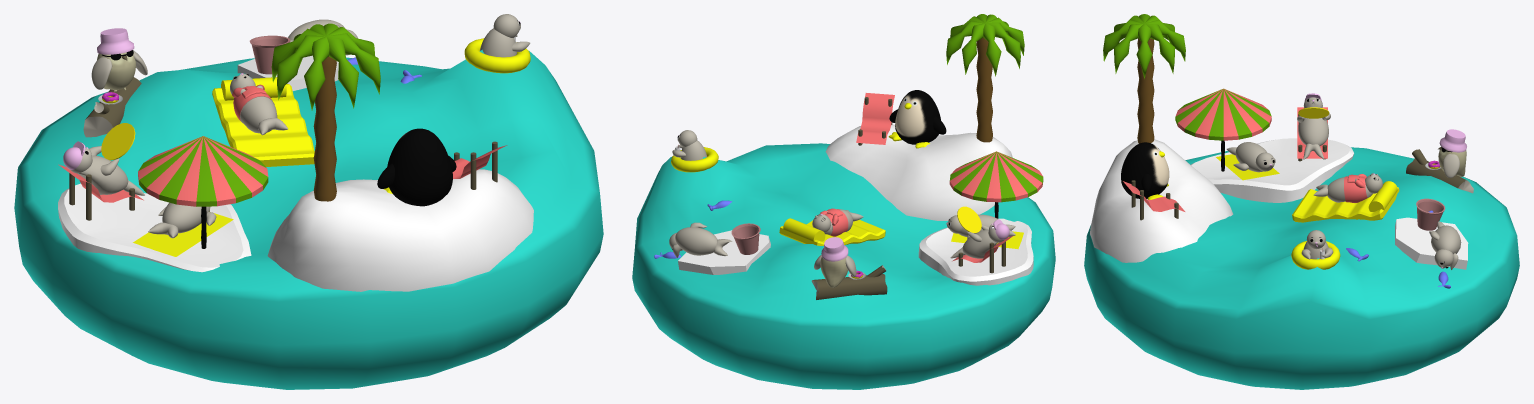
File: island11.glb
The picture shows the model from 3 angles, left to right: view 1: azimuth 30°, elevation 25°; view 2: azimuth 150°, elevation 25°; view 3: azimuth 270°, elevation 25°; orthographic projection. The views are drawn at different scales.
Visible parts, largest first — view 1: water, snowIsland, ice, palm, umbrella, swimming_mattress, pinguin1, polySurface19001, owl, seal, pPlane2, pCylinder11 (+7 smaller); view 2: water, snowIsland, palm, ice, umbrella, pinguin1, iceCube, swimming_mattress, sunLounger1, pCylinder11, polySurface19001, eyeR6 (+7 smaller); view 3: water, snowIsland, ice, palm, umbrella, swimming_mattress, pinguin1, iceCube, seal, polySurface19001, owl, eyeR6 (+7 smaller).
Boxes of the visible parts, <box> form: water: <box>14,49,603,389</box>; snowIsland: <box>267,169,533,291</box>; ice: <box>58,183,251,272</box>; palm: <box>271,23,380,201</box>; umbrella: <box>138,136,268,248</box>; swimming_mattress: <box>212,77,314,166</box>; pinguin1: <box>377,128,456,206</box>; polySurface19001: <box>464,14,530,73</box>; owl: <box>91,28,147,91</box>; seal: <box>230,73,287,135</box>; pPlane2: <box>133,213,233,256</box>; pCylinder11: <box>83,77,141,137</box>; water: <box>632,143,1055,389</box>; snowIsland: <box>825,124,1012,220</box>; palm: <box>946,14,1024,142</box>; ice: <box>918,218,1033,285</box>; umbrella: <box>949,151,1043,218</box>; pinguin1: <box>888,90,946,148</box>; iceCube: <box>678,230,770,274</box>; swimming_mattress: <box>779,218,885,245</box>; sunLounger1: <box>856,93,894,145</box>; pCylinder11: <box>811,265,887,299</box>; polySurface19001: <box>671,130,718,172</box>; eyeR6: <box>669,222,732,257</box>; water: <box>1084,147,1519,389</box>; snowIsland: <box>1090,139,1233,262</box>; ice: <box>1191,138,1354,202</box>; palm: <box>1103,14,1185,143</box>; umbrella: <box>1175,88,1271,171</box>; swimming_mattress: <box>1292,181,1399,222</box>; pinguin1: <box>1121,142,1169,199</box>; iceCube: <box>1395,217,1468,269</box>; seal: <box>1313,173,1382,202</box>; polySurface19001: <box>1291,230,1340,269</box>; owl: <box>1438,129,1466,177</box>; eyeR6: <box>1429,221,1461,269</box>.
Size of the model in its own units: 0.1077 by 0.0807 by 0.1074.
Materials: 23 (4 with a texture image).
